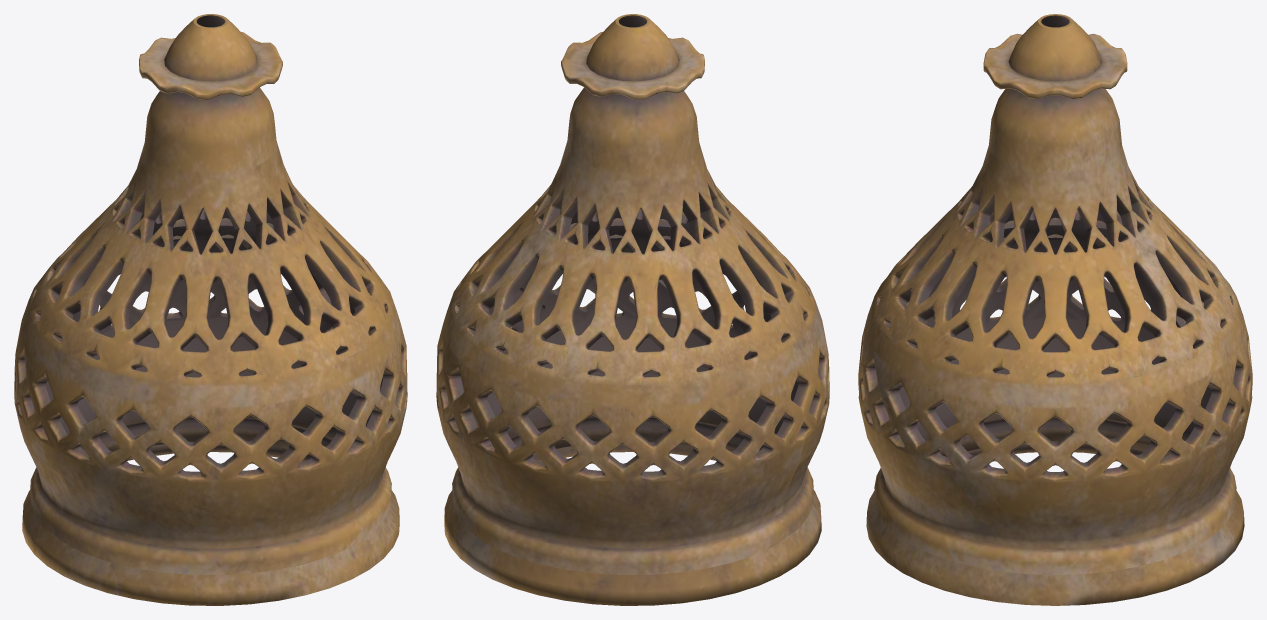
File: patrick-clay-lamp.glb
The picture shows the model from 3 angles, left to right: view 1: azimuth 30°, elevation 25°; view 2: azimuth 150°, elevation 25°; view 3: azimuth 270°, elevation 25°; orthographic projection.
Parts seen in each view (by area): view 1: Pot; view 2: Pot; view 3: Pot.
Boxes of the visible parts, x1=… form: Pot: x1=14, y1=14, x2=407, y2=605; Pot: x1=436, y1=14, x2=829, y2=605; Pot: x1=858, y1=14, x2=1252, y2=605.
Bounding box in the file's own units: 0.024 × 0.0339 × 0.024.
1 material, 1 textured.
